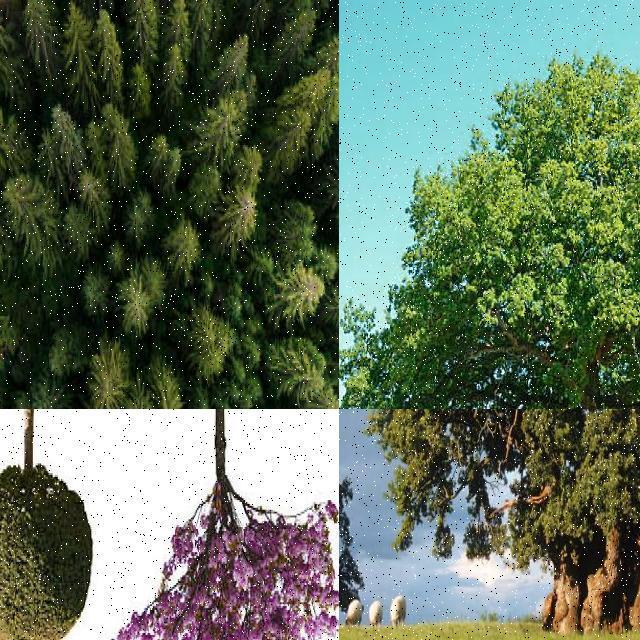tree: (356, 24, 640, 408), (366, 408, 640, 640), (107, 408, 339, 640), (0, 408, 92, 640), (338, 414, 394, 622), (272, 70, 326, 178), (8, 168, 60, 280), (0, 0, 42, 102), (0, 200, 56, 276), (192, 92, 242, 172), (264, 266, 324, 330), (98, 101, 136, 199), (0, 56, 36, 158), (215, 184, 258, 264), (0, 170, 30, 282), (92, 329, 132, 409), (24, 0, 60, 88), (1, 303, 44, 375), (93, 12, 123, 104), (62, 2, 92, 88), (0, 98, 32, 178), (1, 134, 32, 212), (158, 44, 186, 124), (124, 0, 158, 62), (168, 218, 200, 282), (281, 6, 315, 66), (246, 0, 278, 60), (126, 186, 154, 254), (56, 104, 84, 172), (80, 257, 108, 323), (217, 36, 247, 96), (154, 354, 182, 410), (129, 61, 151, 120), (167, 0, 190, 56), (323, 150, 339, 230), (190, 0, 214, 48), (31, 378, 65, 409), (127, 376, 155, 408), (160, 1, 182, 32), (210, 0, 227, 36), (219, 1, 245, 23)
